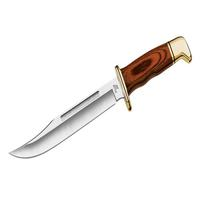knife: (7, 36, 187, 164)
